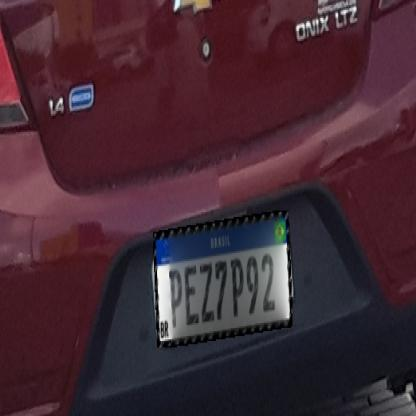PlacaM: (153, 210, 292, 348)
